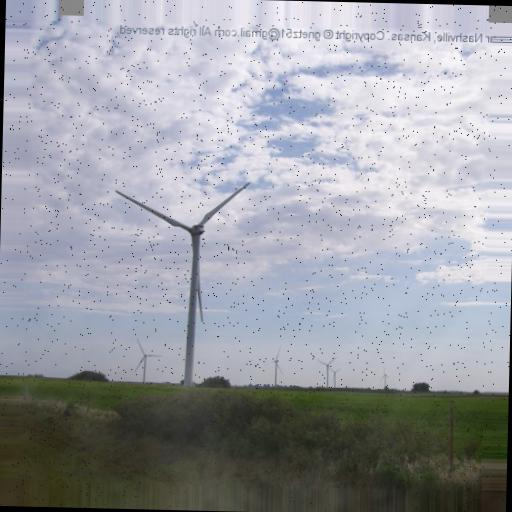wind turbine: (112, 181, 250, 386), (136, 337, 162, 383)
